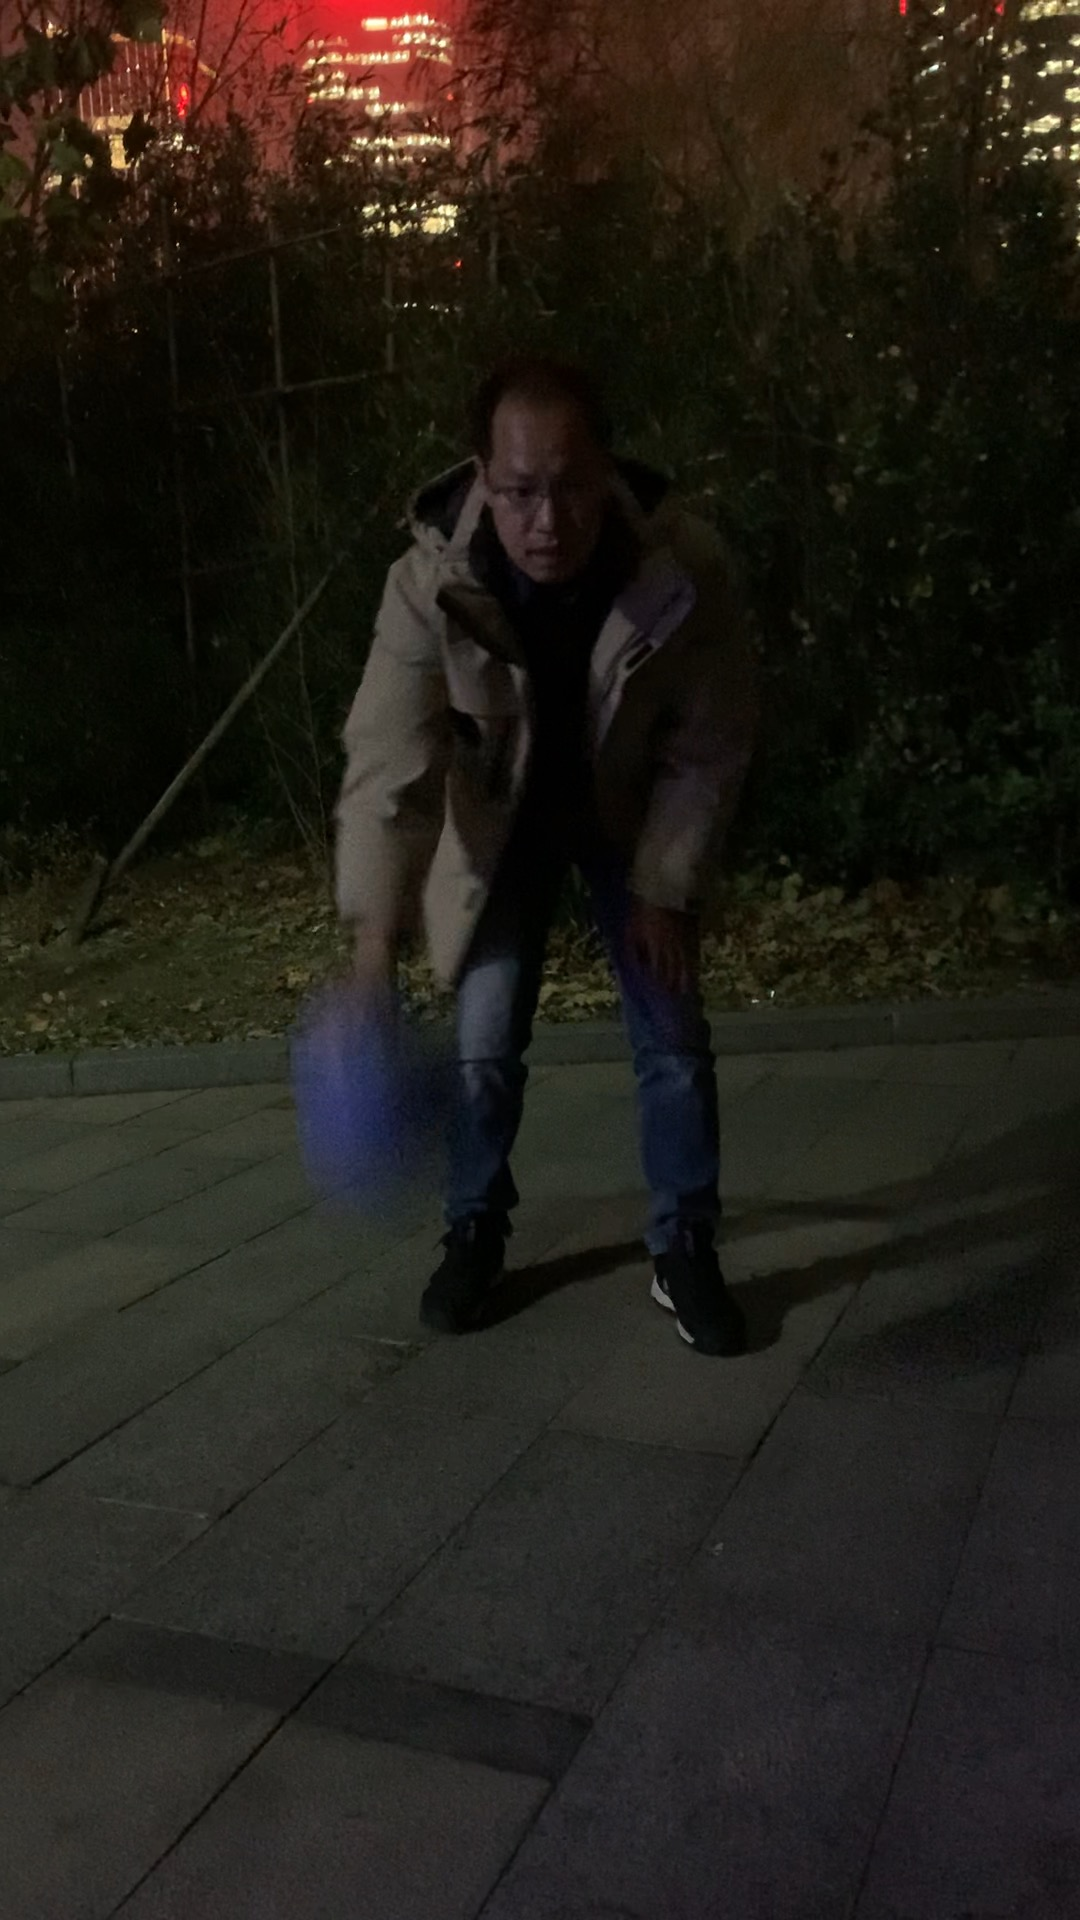ball: (299, 1039, 467, 1193)
